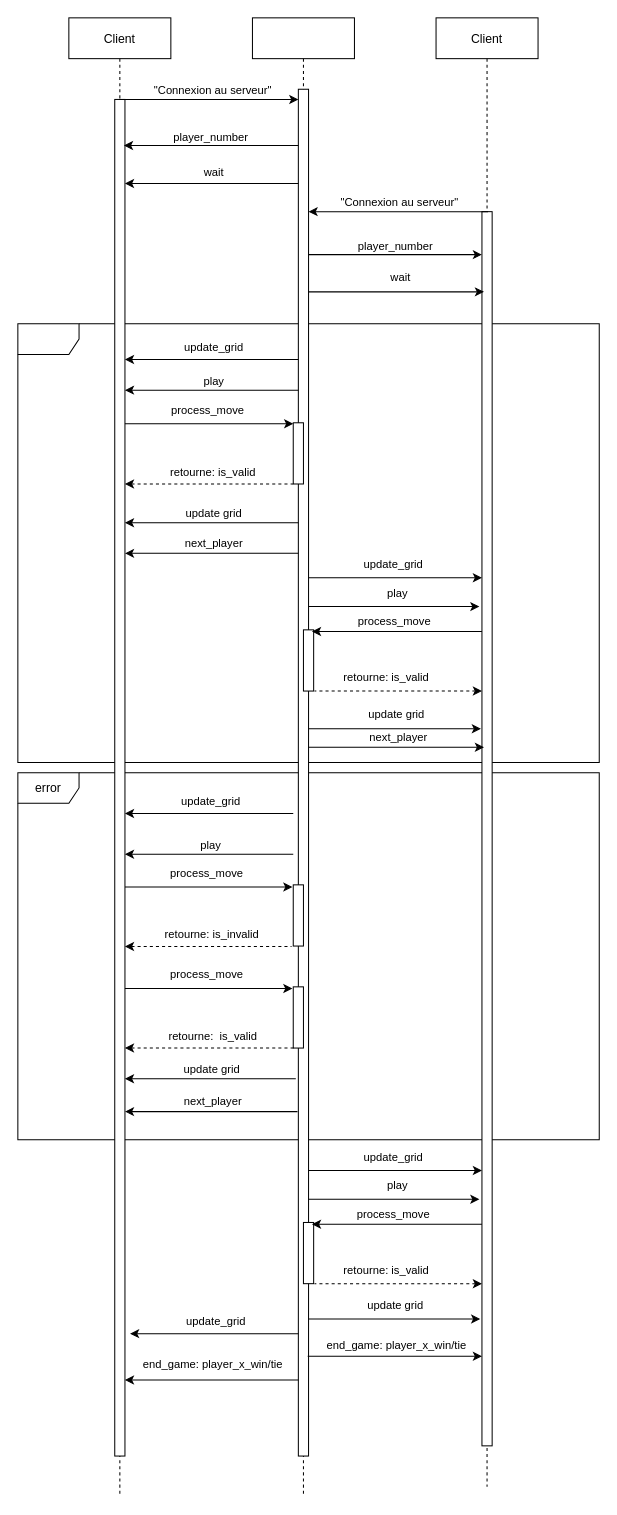
This 617x1515 diagram has some shape labels left out. The box of each missing label's shape, as (x1, y1, x2, y2) in pixels:
loop: (17, 323, 599, 762)
Serveur: (251, 17, 354, 1497)
